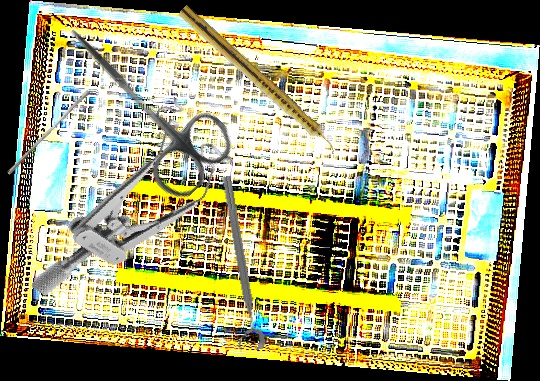Fixation Ring: (207, 174, 267, 354)
Handpiece: (174, 4, 343, 158)
Iris Scissors: (37, 1, 243, 207)
Pusher: (6, 86, 91, 179)
Speculum: (30, 85, 243, 341)
